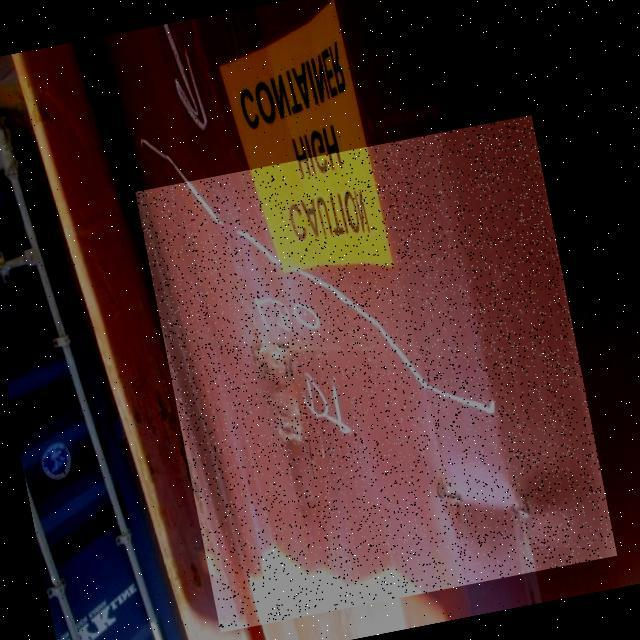Dent: (136, 115, 618, 633)
